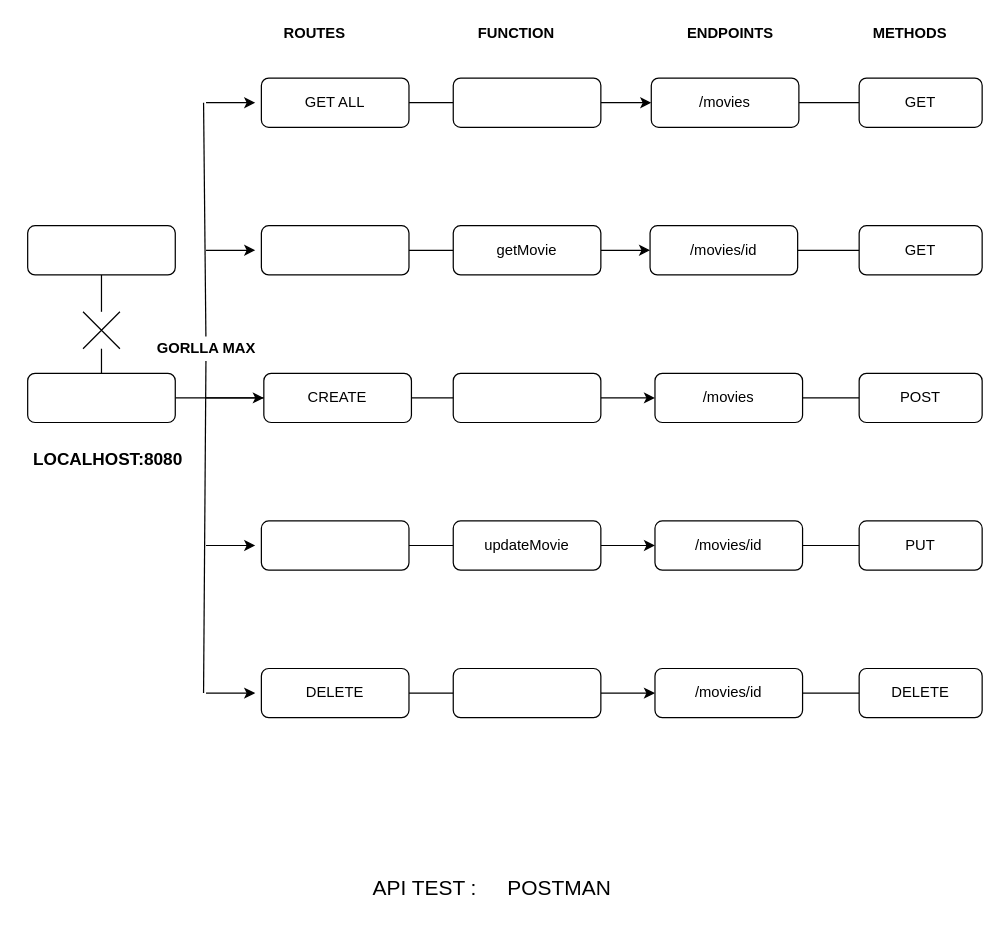
Some shapes in this 1004 by 929 pixel diagram are drawn without their labels. Here are the shapes that lost their labels. From the top down, the centre of each, then its label:
(526,102): getMovies
(100,249): DATABSE
(334,249): GET BY ID
(100,397): MOVIES-SERVER
(526,397): createMovie
(334,545): UPDATE
(526,692): deleteMovie
